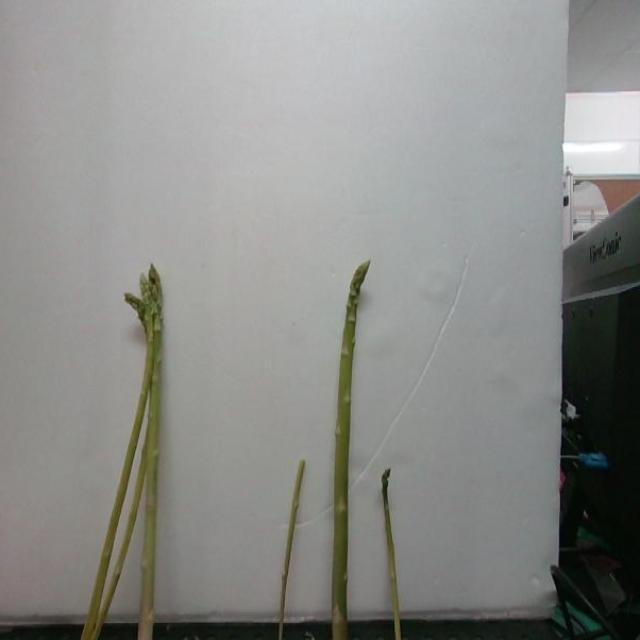aspargus: (332, 261, 371, 640), (125, 267, 163, 640)
